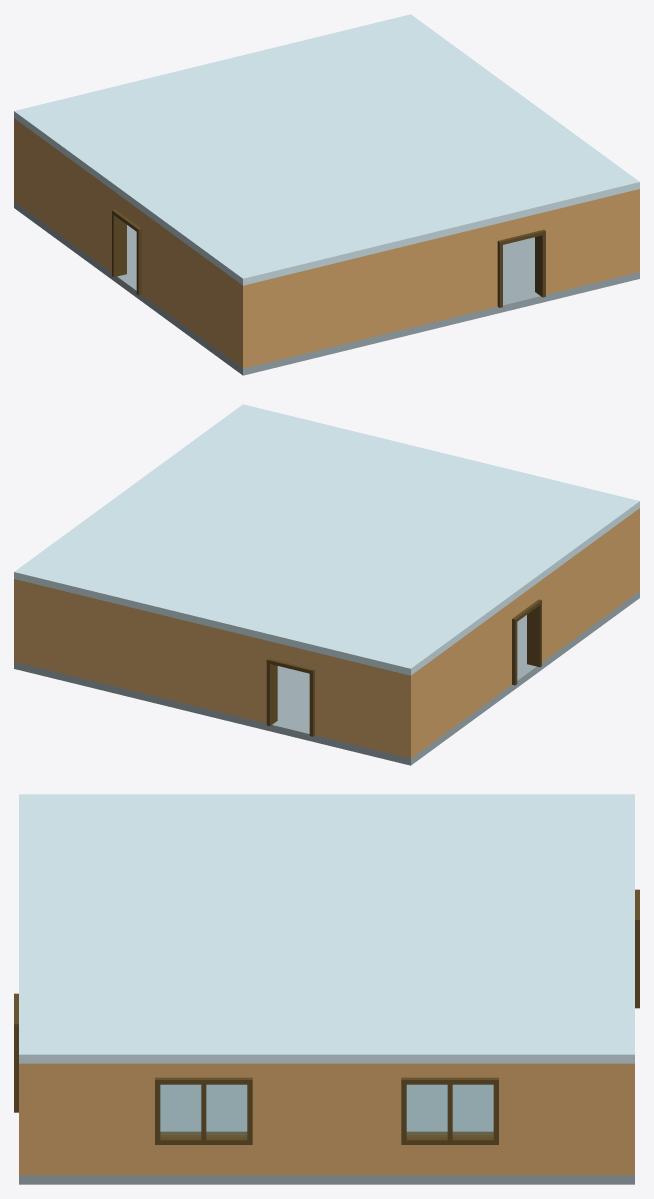
File: room5x5.fbx
3 views of the same model, one above another, from view 1: azimuth 30°, elevation 25°; view 2: azimuth 150°, elevation 25°; view 3: azimuth 270°, elevation 25° (orthographic). The views are drawn at different scales.
Parts seen in each view (by area): view 1: roof.007, wall.015, wall.012, wall.011, floor.008, wall.016, wall.009, wall.008, frame.003, frame.005; view 2: roof.007, wall.014, wall.011, wall.012, floor.008, wall.017, wall.010, wall.008, frame.003, frame.006, wall.018; view 3: roof.007, floor.008, wall.013, wall.018, wall.039, wall.040, wall.007, glass.003, glass.002, frame.004, frame.013, wall.014 (+3 smaller).
Boxes of the visible parts, left/top/right/bottom form: roof.007: left=14, top=14, right=639, bottom=285; wall.015: left=239, top=227, right=481, bottom=368; wall.012: left=151, top=219, right=249, bottom=368; wall.011: left=14, top=119, right=105, bottom=267; floor.008: left=14, top=201, right=639, bottom=375; wall.016: left=560, top=189, right=639, bottom=290; wall.009: left=481, top=208, right=560, bottom=310; wall.008: left=105, top=185, right=151, bottom=300; frame.003: left=112, top=209, right=141, bottom=295; frame.005: left=497, top=229, right=545, bottom=307; roof.007: left=14, top=404, right=639, bottom=675; wall.014: left=20, top=580, right=251, bottom=719; wall.011: left=404, top=609, right=502, bottom=758; wall.012: left=548, top=511, right=639, bottom=657; floor.008: left=14, top=591, right=639, bottom=765; wall.017: left=331, top=656, right=414, bottom=757; wall.010: left=252, top=637, right=331, bottom=739; wall.008: left=502, top=575, right=548, bottom=690; frame.003: left=512, top=599, right=541, bottom=685; frame.006: left=266, top=658, right=314, bottom=736; wall.018: left=14, top=579, right=20, bottom=663; roof.007: left=19, top=794, right=634, bottom=1063; floor.008: left=19, top=1084, right=634, bottom=1184; wall.013: left=265, top=1063, right=388, bottom=1175; wall.018: left=511, top=1063, right=634, bottom=1175; wall.039: left=19, top=1063, right=142, bottom=1175; wall.040: left=142, top=1063, right=265, bottom=1175; wall.007: left=388, top=1063, right=511, bottom=1175; glass.003: left=160, top=1085, right=247, bottom=1136; glass.002: left=406, top=1085, right=493, bottom=1136; frame.004: left=401, top=1077, right=498, bottom=1144; frame.013: left=155, top=1077, right=252, bottom=1144; wall.014: left=624, top=1063, right=634, bottom=1175.
Size of the model in its own units: 1525 by 350 by 1525.
